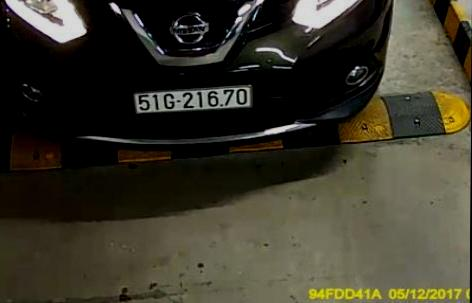License_Plate: (131, 83, 255, 115)
